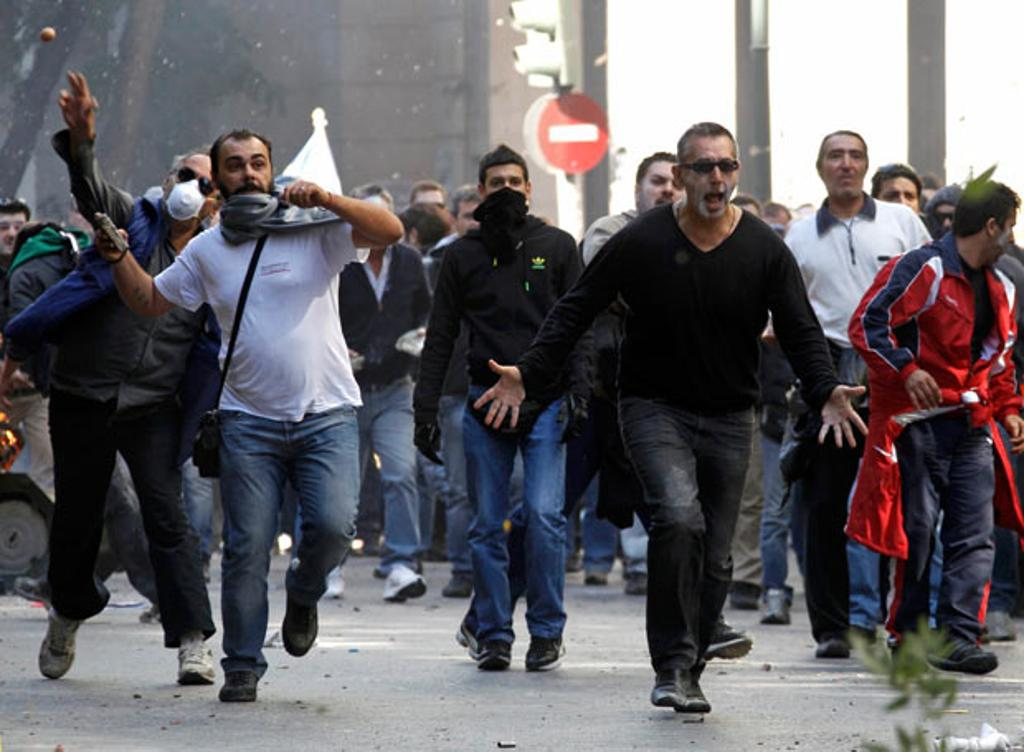face: (682, 139, 737, 218), (218, 143, 271, 212), (167, 158, 217, 221), (822, 135, 867, 197), (641, 161, 683, 223), (486, 165, 527, 219), (880, 179, 919, 233), (996, 200, 1017, 262), (457, 200, 487, 241), (933, 204, 963, 245), (416, 189, 444, 231), (1, 215, 26, 257), (767, 210, 789, 243)
